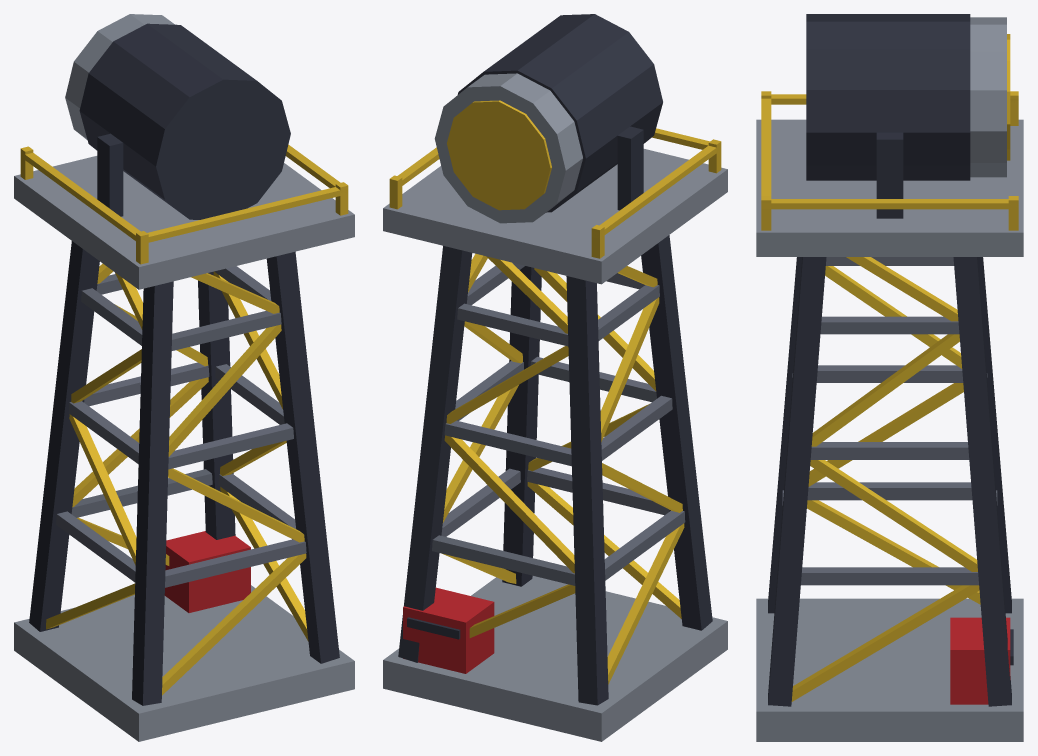
The model's file is Decor_HeroHQ_Searchlight.fbx.
3 renders of one model, left to right at view 1: azimuth 30°, elevation 25°; view 2: azimuth 150°, elevation 25°; view 3: azimuth 270°, elevation 25°, orthographic. The views are drawn at different scales.
Parts seen in each view (by area): view 1: Searchlight_Body; view 2: Searchlight_Body; view 3: Searchlight_Body.
Boxes of the visible parts, x1=… form: Searchlight_Body: x1=14, y1=14, x2=354, y2=741; Searchlight_Body: x1=383, y1=14, x2=727, y2=741; Searchlight_Body: x1=756, y1=14, x2=1023, y2=741.
Bounding box in the file's own units: 8 × 21.9 × 8.
